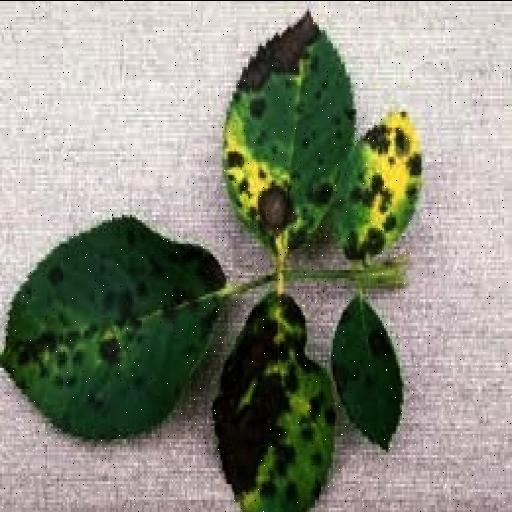downy_mildew: (2, 217, 224, 438), (225, 14, 354, 250), (213, 293, 334, 511), (335, 111, 421, 258), (333, 296, 401, 448)
